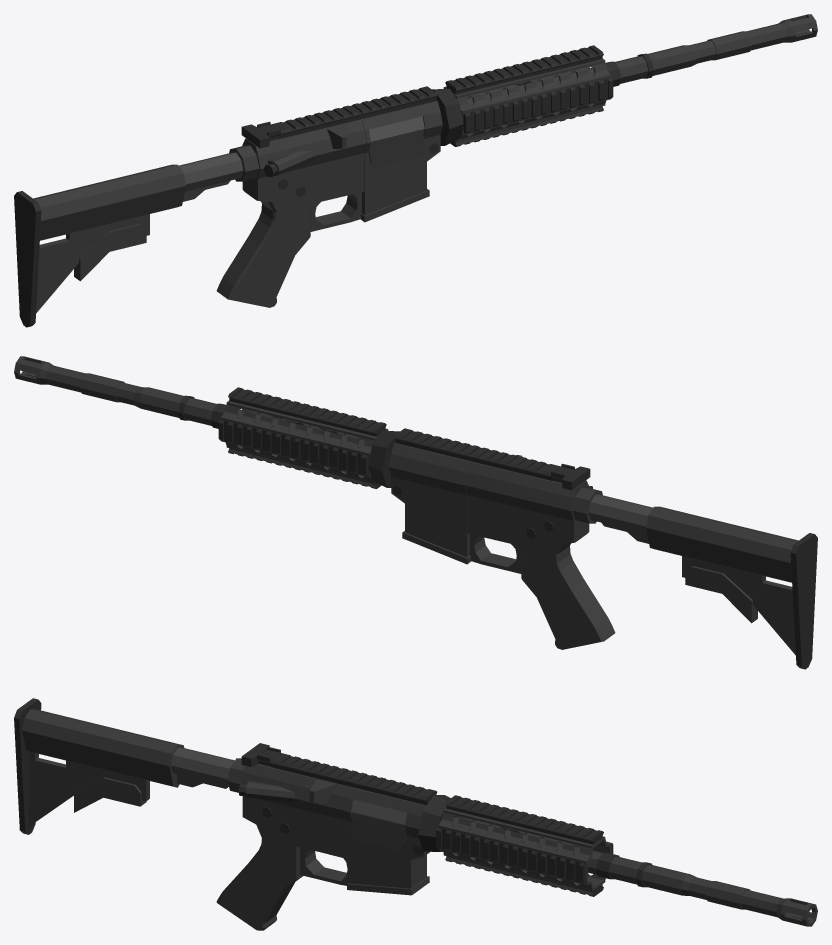
Rendered from AssaultRifle4_01.fbx.
3 views of the same model, one above another, from view 1: azimuth 30°, elevation 25°; view 2: azimuth 150°, elevation 25°; view 3: azimuth 330°, elevation 25° (orthographic).
Visible parts, largest first — view 1: AssaultRifle4_01; view 2: AssaultRifle4_01; view 3: AssaultRifle4_01.
Boxes of the visible parts, box(x1,y1,x2,y2) form: AssaultRifle4_01: box(14, 14, 817, 327); AssaultRifle4_01: box(14, 356, 817, 669); AssaultRifle4_01: box(14, 698, 817, 930).
Size of the model in its own units: 0.9841 by 0.2093 by 0.0717.
